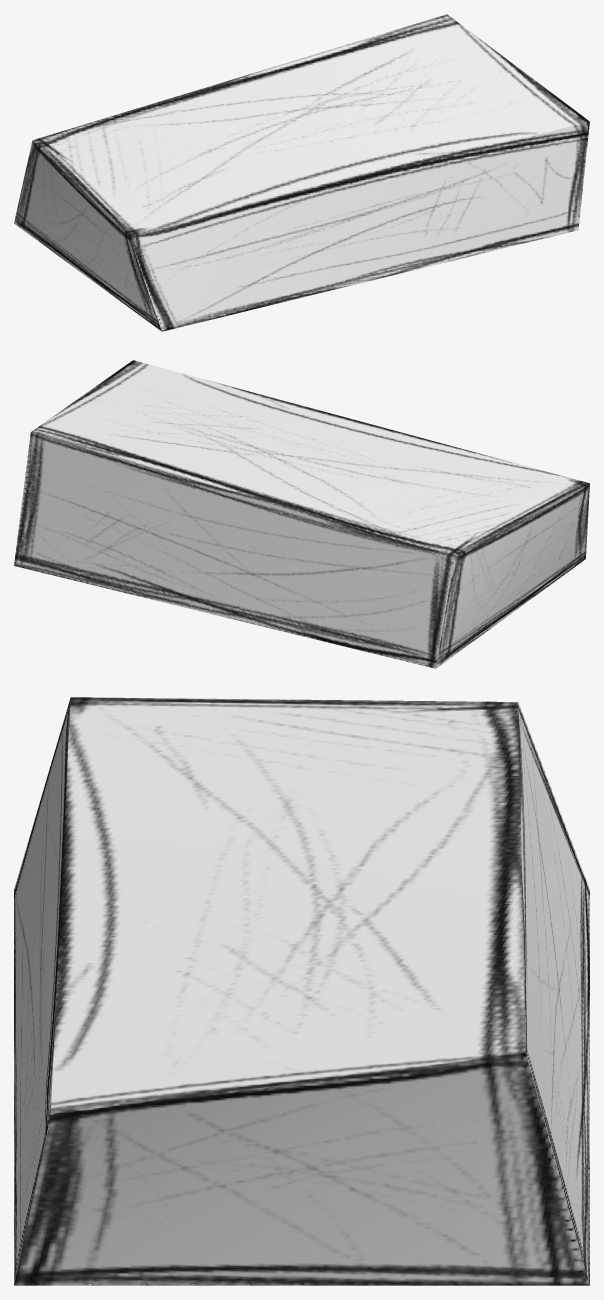
Rendered from couette_01.fbx.
3 views of the same model, one above another, from view 1: azimuth 30°, elevation 25°; view 2: azimuth 150°, elevation 25°; view 3: azimuth 270°, elevation 25° (orthographic). The views are drawn at different scales.
Parts seen in each view (by area): view 1: matela001; view 2: matela001; view 3: matela001.
Boxes of the visible parts, bbox=[...] form: matela001: bbox=[14, 14, 589, 331]; matela001: bbox=[14, 360, 589, 668]; matela001: bbox=[14, 697, 589, 1285].
Bounding box in the file's own units: 288 × 72.28 × 162.
1 material, 1 textured.
